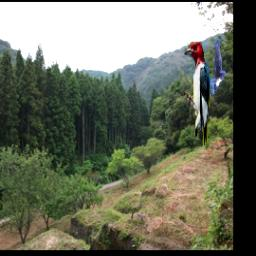Swallow: (205, 39, 226, 96)
Woodpecker: (184, 43, 210, 146)
